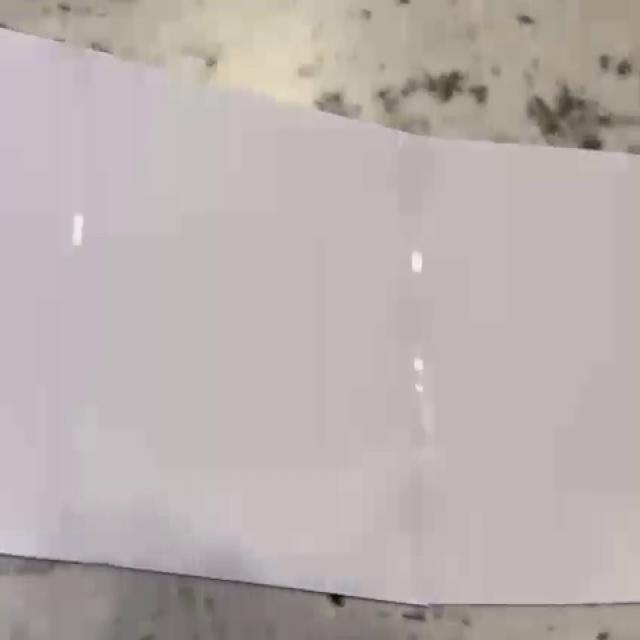road: (0, 29, 640, 604)
